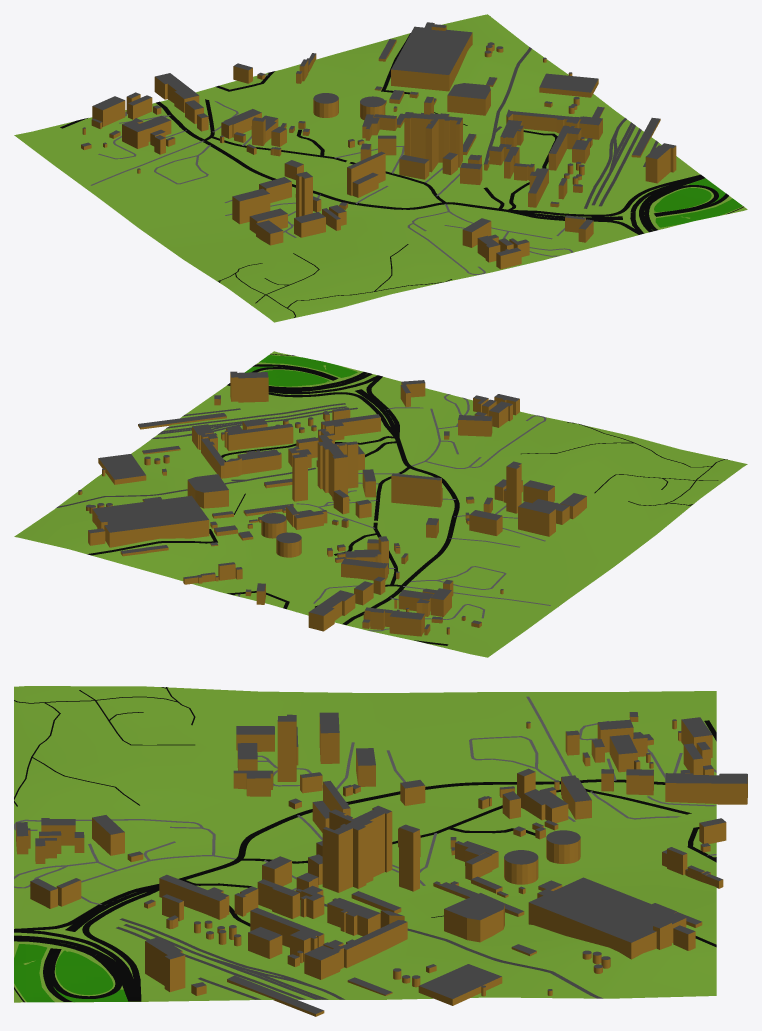
The model's file is tile_01_01.glb.
3 views of the same model, one above another, from view 1: azimuth 30°, elevation 25°; view 2: azimuth 150°, elevation 25°; view 3: azimuth 270°, elevation 25° (orthographic). The views are drawn at different scales.
Visible parts, largest first — view 1: Terrain_01_01, Ub_small.osm_buildings_01_01, Ub_small.osm_roads_trunk_01_01, Ub_small.osm_roads_service_01_01, Ub_small.osm_vegetation_01_01, Ub_small.osm_railways_01_01, Ub_small.osm_roads_primary_01_01, Ub_small.osm_roads_unclassified_01_01, Ub_small.osm_roads_residential_01_01, Ub_small.osm_paths_footway_01_01; view 2: Terrain_01_01, Ub_small.osm_buildings_01_01, Ub_small.osm_roads_trunk_01_01, Ub_small.osm_roads_service_01_01, Ub_small.osm_vegetation_01_01, Ub_small.osm_railways_01_01, Ub_small.osm_roads_primary_01_01, Ub_small.osm_roads_unclassified_01_01, Ub_small.osm_paths_footway_01_01, Ub_small.osm_roads_residential_01_01; view 3: Terrain_01_01, Ub_small.osm_buildings_01_01, Ub_small.osm_roads_trunk_01_01, Ub_small.osm_vegetation_01_01, Ub_small.osm_roads_service_01_01, Ub_small.osm_railways_01_01, Ub_small.osm_roads_primary_01_01, Ub_small.osm_paths_footway_01_01, Ub_small.osm_roads_residential_01_01, Ub_small.osm_roads_unclassified_01_01.
Part boxes in pixels (x1,y1,x2,y2): Terrain_01_01: (14, 14, 747, 322); Ub_small.osm_buildings_01_01: (81, 22, 676, 269); Ub_small.osm_roads_trunk_01_01: (507, 174, 728, 234); Ub_small.osm_roads_service_01_01: (90, 16, 572, 274); Ub_small.osm_vegetation_01_01: (654, 178, 742, 227); Ub_small.osm_railways_01_01: (483, 47, 658, 208); Ub_small.osm_roads_primary_01_01: (156, 101, 582, 218); Ub_small.osm_roads_unclassified_01_01: (60, 33, 445, 202); Ub_small.osm_roads_residential_01_01: (215, 71, 557, 211); Ub_small.osm_paths_footway_01_01: (218, 112, 743, 317); Terrain_01_01: (14, 351, 747, 657); Ub_small.osm_buildings_01_01: (78, 371, 586, 636); Ub_small.osm_roads_trunk_01_01: (227, 364, 399, 438); Ub_small.osm_roads_service_01_01: (238, 394, 557, 631); Ub_small.osm_vegetation_01_01: (245, 355, 357, 386); Ub_small.osm_railways_01_01: (56, 403, 357, 507); Ub_small.osm_roads_primary_01_01: (342, 404, 459, 624); Ub_small.osm_roads_unclassified_01_01: (87, 467, 448, 645); Ub_small.osm_paths_footway_01_01: (234, 353, 727, 514); Ub_small.osm_roads_residential_01_01: (221, 436, 398, 608); Terrain_01_01: (14, 686, 716, 1002); Ub_small.osm_buildings_01_01: (16, 712, 747, 1016); Ub_small.osm_roads_trunk_01_01: (14, 884, 159, 1001); Ub_small.osm_vegetation_01_01: (14, 944, 128, 1002); Ub_small.osm_roads_service_01_01: (14, 696, 716, 904); Ub_small.osm_railways_01_01: (116, 903, 603, 999); Ub_small.osm_roads_primary_01_01: (93, 779, 665, 913); Ub_small.osm_paths_footway_01_01: (14, 687, 443, 1002); Ub_small.osm_roads_residential_01_01: (181, 827, 716, 926); Ub_small.osm_roads_unclassified_01_01: (242, 720, 716, 947).
Size of the model in its own units: 1028 by 93.83 by 972.
